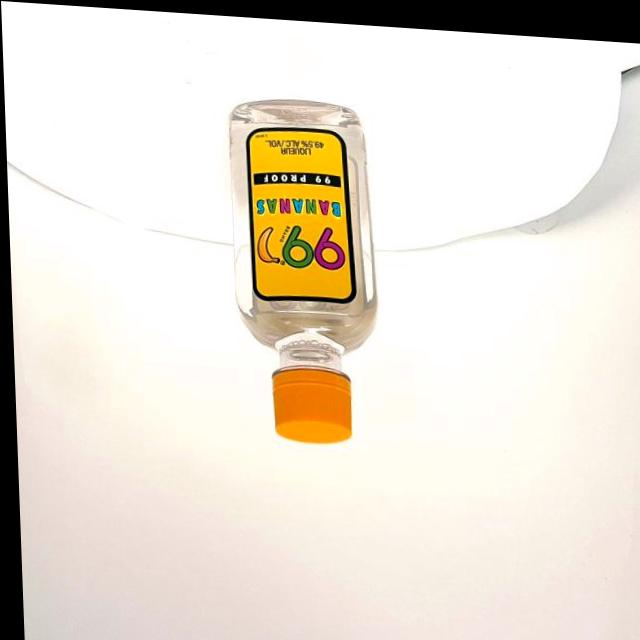99 BANANAS 100ML: (223, 91, 377, 438), (224, 93, 376, 438)
